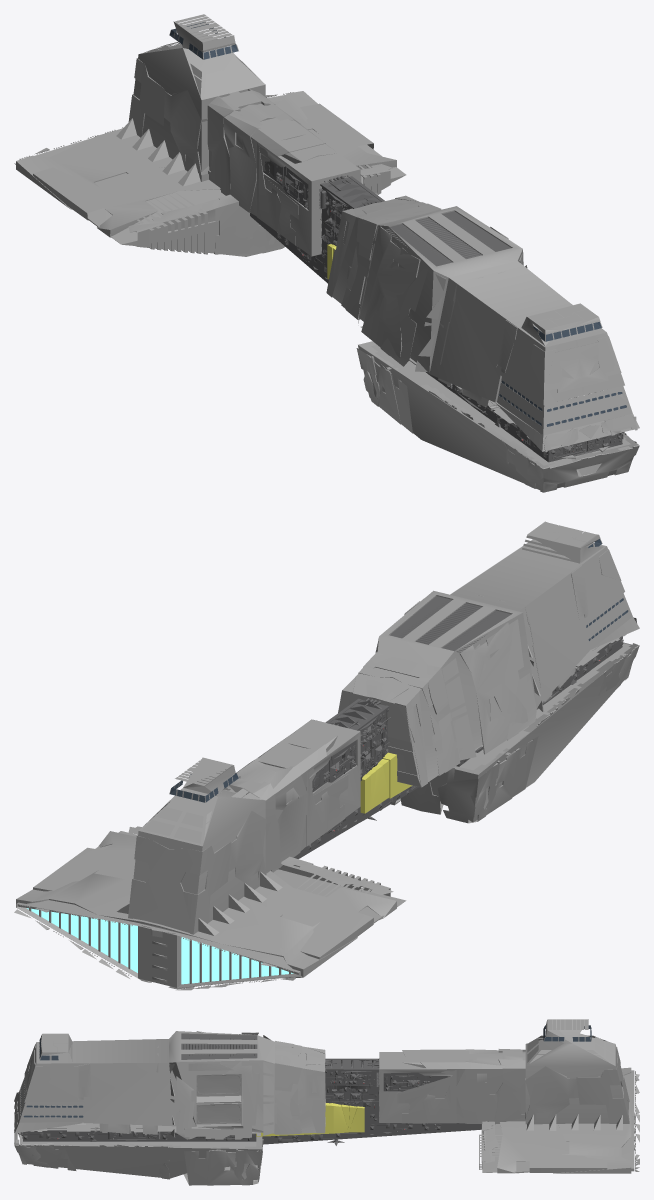
File: sw_heraklon_transport.glb
The picture shows the model from 3 angles, top to bottom: view 1: azimuth 30°, elevation 25°; view 2: azimuth 150°, elevation 25°; view 3: azimuth 270°, elevation 25°; orthographic projection. The views are drawn at different scales.
Parts seen in each view (by area): view 1: HullPlates_Metal_0, MainHull_Metal_0, Greebles_Metal_0, MainHull_MetalDark_0, Greebles_MetalDark_0 (×3), MainHull_DarkWindow_0; view 2: HullPlates_Metal_0, MainHull_Metal_0, Greebles_Metal_0, MainHull_MetalDark_0, MainHull_BlueEngineGlow_0, Greebles_MetalDark_0 (×3), MainHull_MetalYellow_0, MainHull_DarkWindow_0; view 3: HullPlates_Metal_0, MainHull_Metal_0, MainHull_MetalDark_0, Greebles_MetalDark_0 (×3), Greebles_Metal_0, Docks_Metal_0, MainHull_MetalYellow_0, MainHull_DarkWindow_0.
Boxes of the visible parts, x1,y1,x2,y2 form: HullPlates_Metal_0: [16, 42, 639, 492]; MainHull_Metal_0: [34, 21, 639, 489]; Greebles_Metal_0: [14, 14, 630, 467]; MainHull_MetalDark_0: [250, 160, 622, 462]; Greebles_MetalDark_0 (×3): [264, 161, 623, 461]; MainHull_DarkWindow_0: [169, 22, 626, 426]; HullPlates_Metal_0: [16, 522, 639, 989]; MainHull_Metal_0: [16, 521, 639, 987]; Greebles_Metal_0: [14, 535, 630, 990]; MainHull_MetalDark_0: [277, 596, 622, 869]; MainHull_BlueEngineGlow_0: [26, 908, 293, 984]; Greebles_MetalDark_0 (×3): [308, 600, 623, 849]; MainHull_MetalYellow_0: [360, 752, 412, 813]; MainHull_DarkWindow_0: [170, 539, 627, 802]; HullPlates_Metal_0: [14, 1031, 631, 1185]; MainHull_Metal_0: [15, 1019, 634, 1178]; MainHull_MetalDark_0: [23, 1034, 481, 1144]; Greebles_MetalDark_0 (×3): [20, 1034, 470, 1145]; Greebles_Metal_0: [15, 1019, 639, 1171]; Docks_Metal_0: [196, 1074, 241, 1124]; MainHull_MetalYellow_0: [256, 1103, 364, 1136]; MainHull_DarkWindow_0: [21, 1025, 591, 1117].
Bounding box in the file's own units: 0.7083 × 0.4681 × 1.87.
